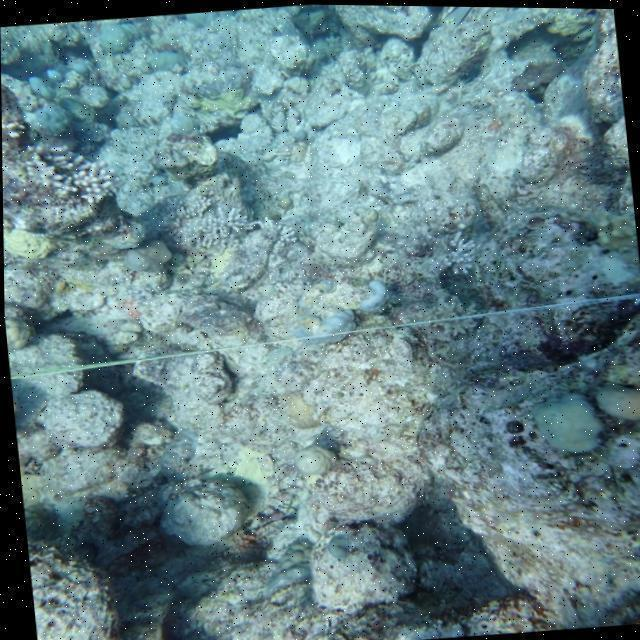Bleached Coral: (26, 144, 133, 214)
